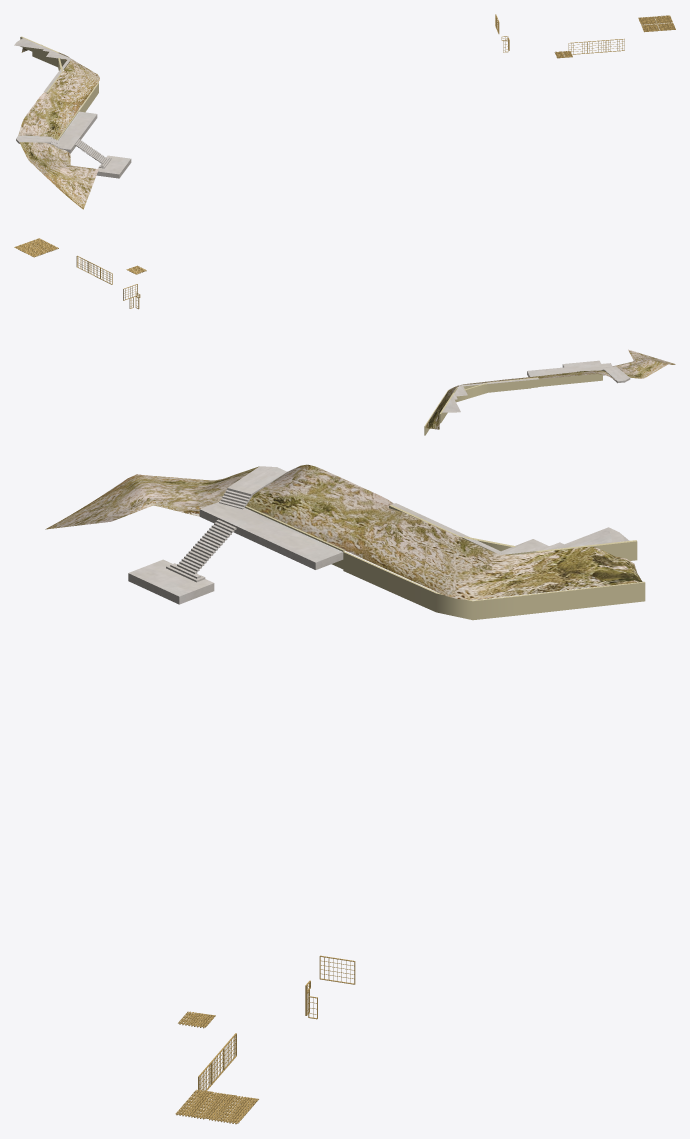
The model's file is Talud.glb.
The picture shows the model from 3 angles, top to bottom: view 1: azimuth 30°, elevation 25°; view 2: azimuth 150°, elevation 25°; view 3: azimuth 270°, elevation 25°; orthographic projection. The views are drawn at different scales.
Parts seen in each view (by area): view 1: TA_Ground02, TA_Floor, TA_Ground01, TA_Casona03_Extra, TA_Wall; view 2: TA_Wall, TA_Floor, TA_Casona03_Extra, TA_Ground01, TA_Ground02; view 3: TA_Ground02, TA_Floor, TA_Wall, TA_Ground01, TA_Casona03_Extra.
Part boxes in pixels (<box>): TA_Ground02: <box>18,48,99,140</box>; TA_Floor: <box>14,38,131,178</box>; TA_Ground01: <box>19,142,98,209</box>; TA_Casona03_Extra: <box>495,14,675,58</box>; TA_Wall: <box>20,36,98,140</box>; TA_Wall: <box>424,374,602,435</box>; TA_Floor: <box>442,360,630,412</box>; TA_Casona03_Extra: <box>14,238,146,309</box>; TA_Ground01: <box>612,349,675,378</box>; TA_Ground02: <box>425,370,616,429</box>; TA_Ground02: <box>246,464,642,599</box>; TA_Floor: <box>128,466,629,604</box>; TA_Wall: <box>245,505,645,620</box>; TA_Ground01: <box>45,466,258,529</box>; TA_Casona03_Extra: <box>175,955,355,1124</box>.
Size of the model in its own units: 139 by 10.32 by 57.53.
Materials: 5 (3 with a texture image).
